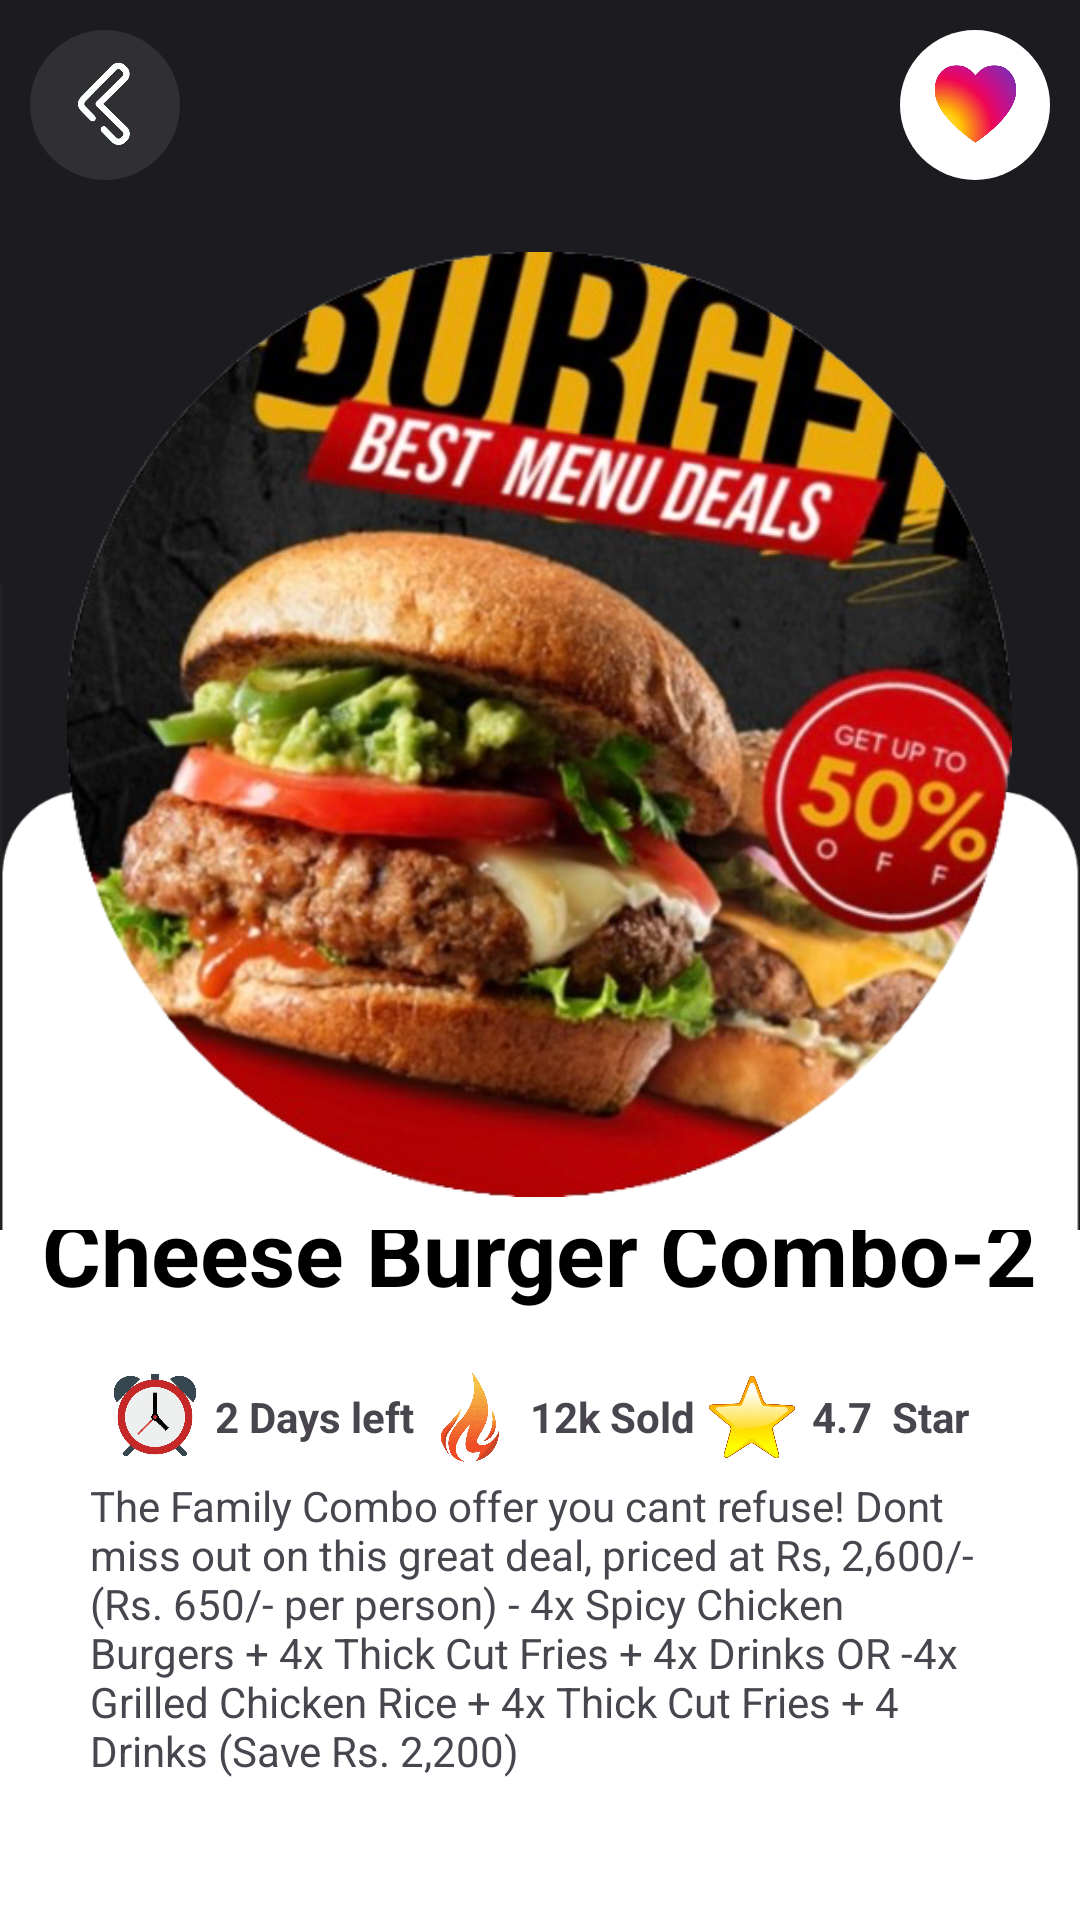

Screen size 1080w x 1920h. Icon name, then its center in pixels as [x,y]:
back: [105,105]
clock: [155,1415]
fire: [470,1417]
heart: [975,105]
